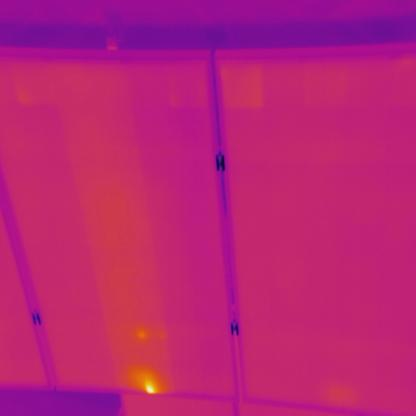hotspot: (138, 370, 162, 398)
